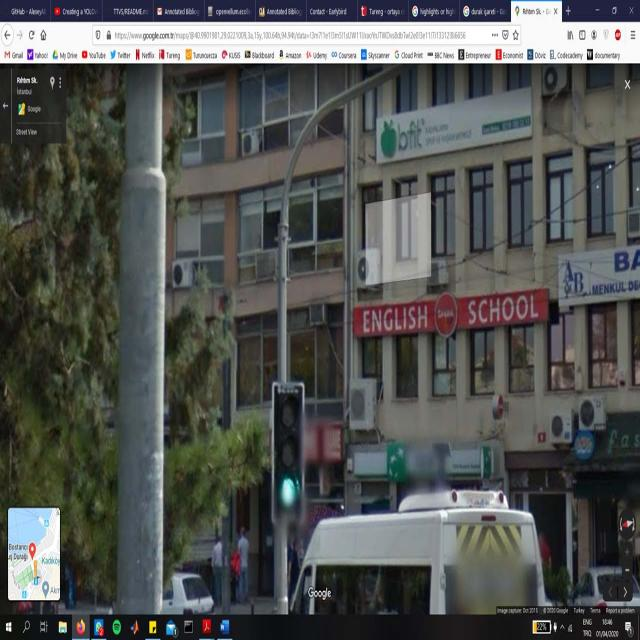yesil: (273, 383, 299, 514)
